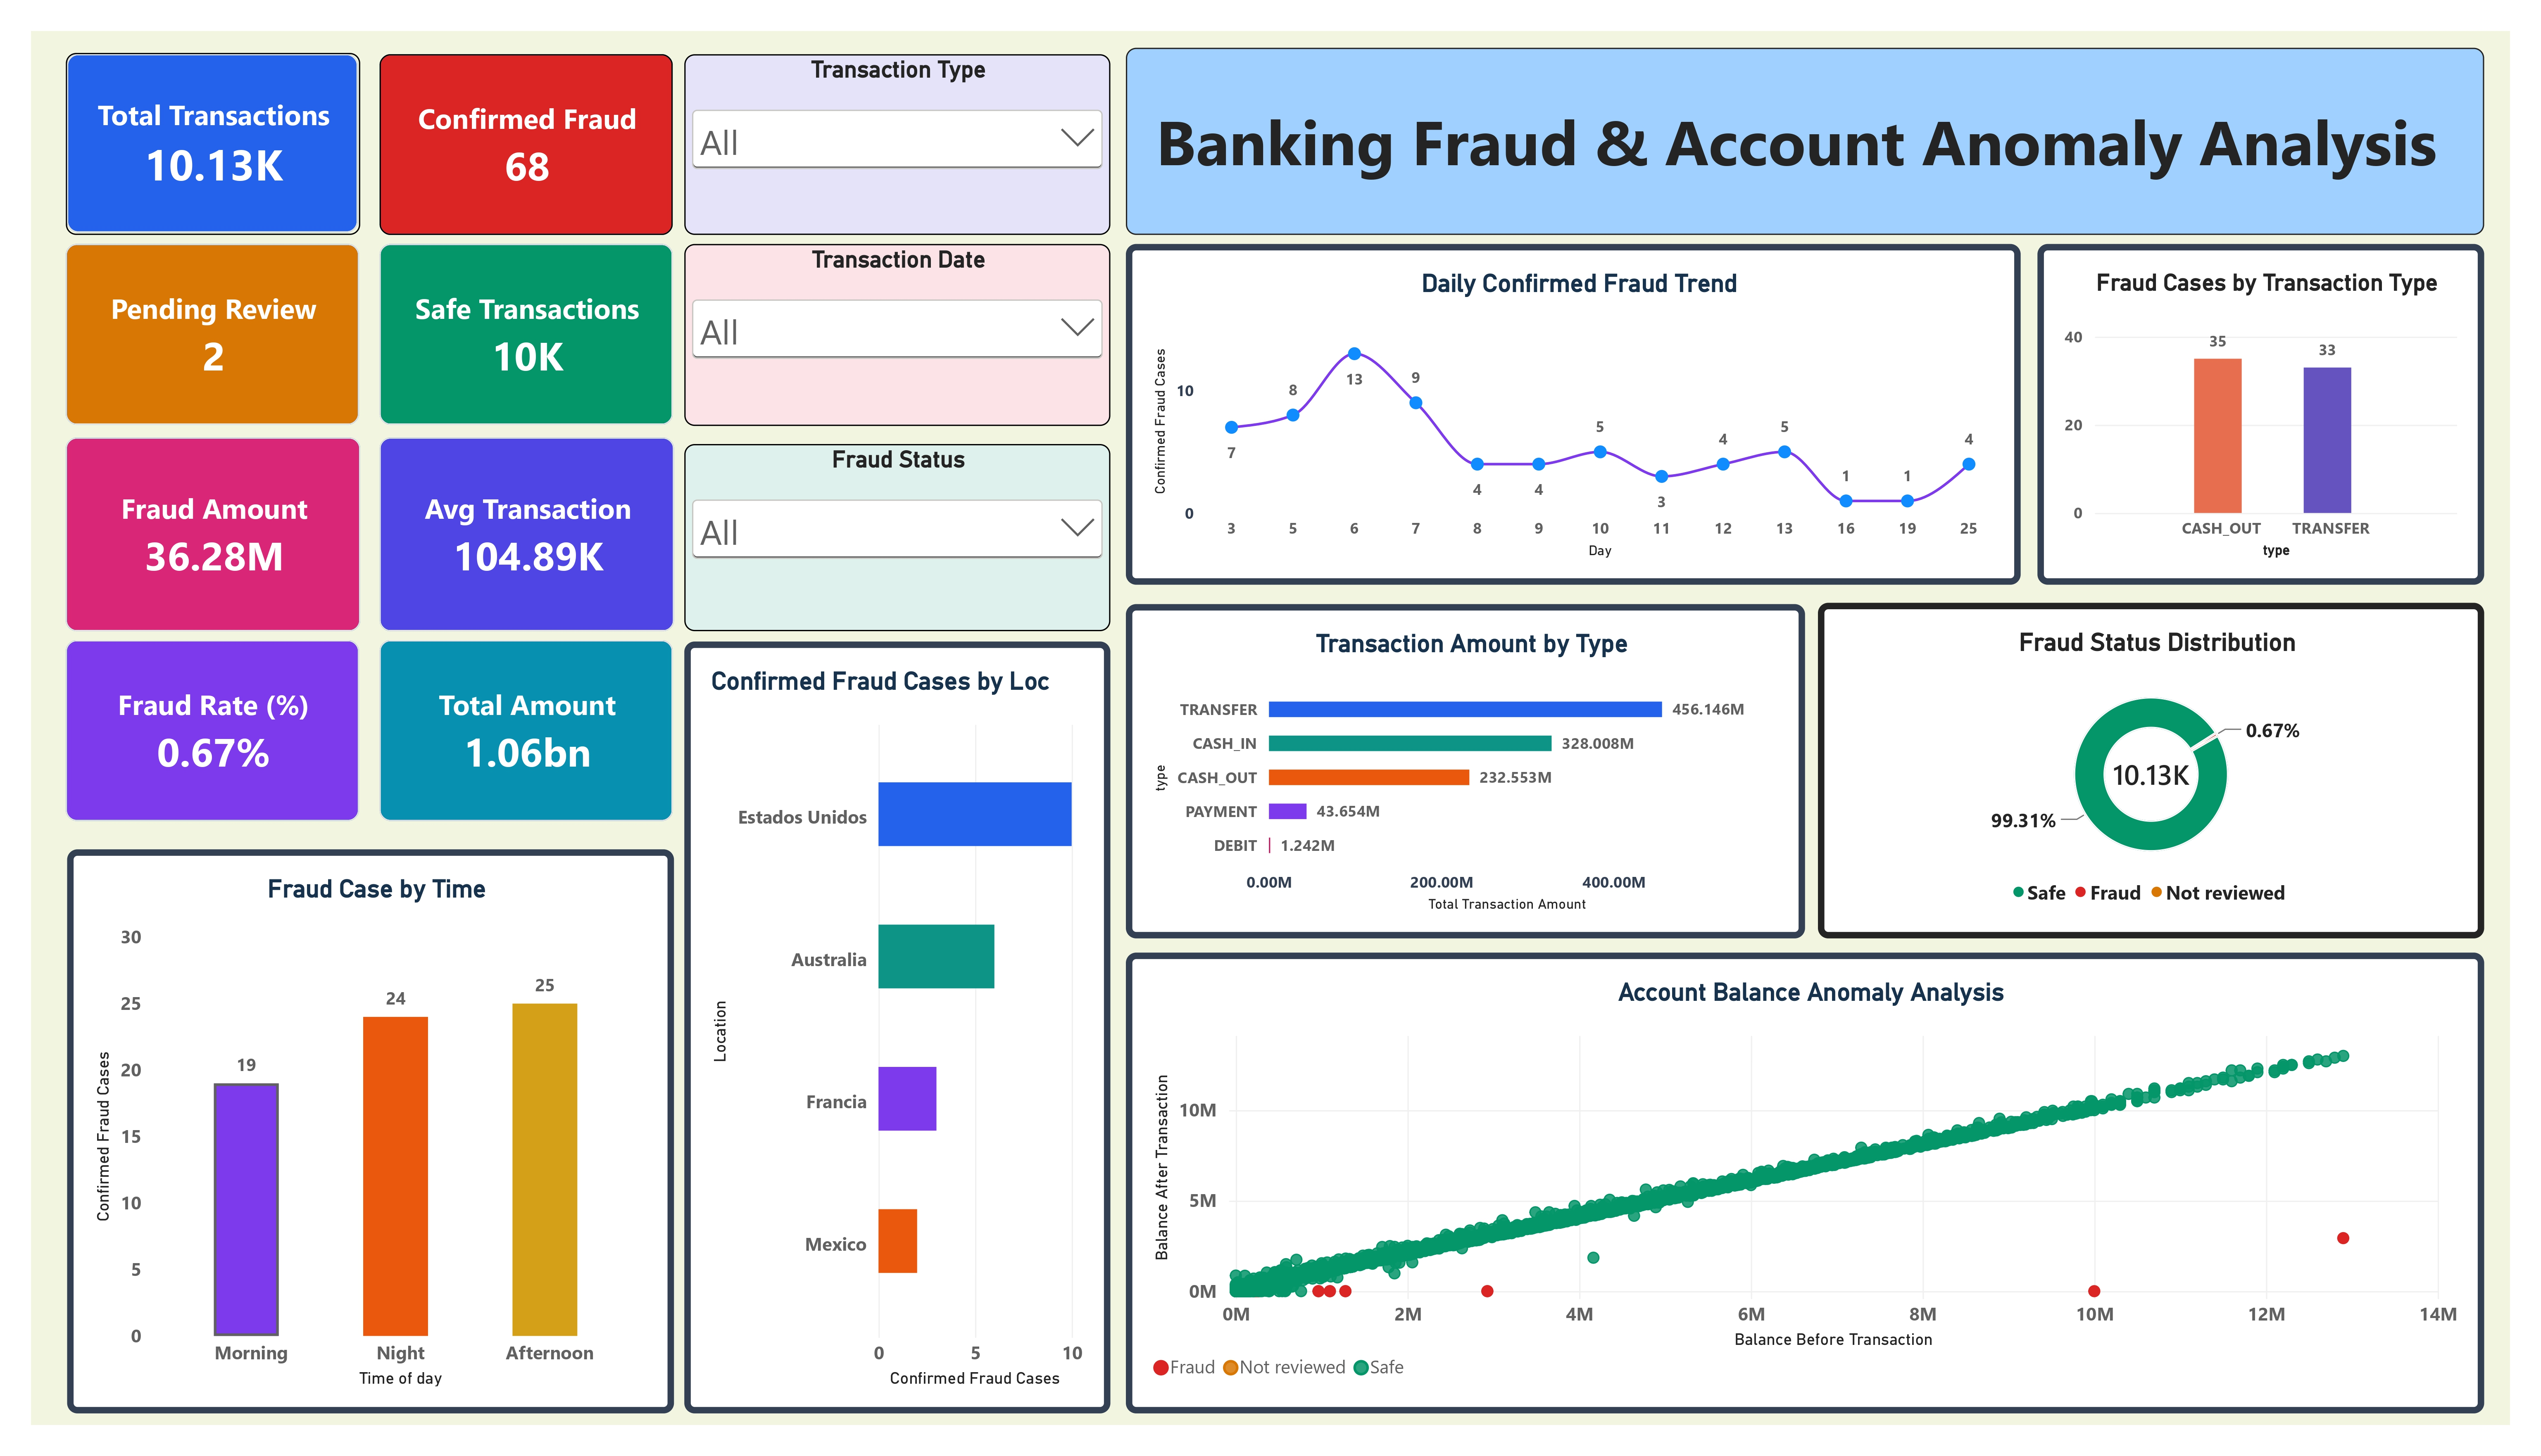

The dashboard page shown, as its layout file describes it:
{"tool":"powerbi","page":{"name":"Page 4","canvas":[1920,1080],"ordinal":3},"visuals":[{"type":"textbox","box":[847.5,12.5,1052.5,145],"z":0},{"type":"cardVisual","fields":{"Data":["Banking_Fraud.P4 Total Banking Transactions"]},"box":[26.8,16.8,227.9,140.8],"z":1000},{"type":"cardVisual","fields":{"Data":["Banking_Fraud.P4 Confirmed Fraud Cases"]},"box":[269.6,18.1,227.9,140.8],"z":2000},{"type":"cardVisual","fields":{"Data":["Banking_Fraud.P4 Not Reviewed Transactions"]},"box":[27.1,164.7,227.9,140.8],"z":3000},{"type":"cardVisual","fields":{"Data":["Banking_Fraud.P4 Confirmed Fraud Rate (%)"]},"box":[27.1,472.3,227.9,140.8],"z":4000},{"type":"cardVisual","fields":{"Data":["Banking_Fraud.P4 Total Transaction Amount"]},"box":[269.6,472.3,227.9,140.8],"z":5000},{"type":"cardVisual","fields":{"Data":["Banking_Fraud.P4 Safe Transactions"]},"box":[269.6,164.7,227.9,140.8],"z":6000},{"type":"cardVisual","fields":{"Data":["Banking_Fraud.P4 Fraud Transaction Amount"]},"box":[27.1,314.9,228,150],"z":7000},{"type":"cardVisual","fields":{"Data":["Banking_Fraud.P4 Average Transaction Amount"]},"box":[269.6,314.9,228,150],"z":8000},{"type":"donutChart","title":"Fraud Status Distribution","fields":{"Category":["Banking_Fraud.Fraud Status Clean"],"Y":["Banking_Fraud.P4 Total Banking Transactions"]},"box":[1383.8,443.2,516.2,259.5],"z":9000},{"type":"clusteredBarChart","title":"Transaction Amount by Type","fields":{"Category":["Banking_Fraud.type"],"Y":["Banking_Fraud.P4 Total Transaction Amount"]},"box":[847.5,443.8,526.2,258.8],"z":10000},{"type":"columnChart","title":"Fraud Cases by Transaction Type","fields":{"Category":["Banking_Fraud.type"],"Y":["Banking_Fraud.P4 Confirmed Fraud Cases"]},"box":[1553.8,165,346.2,263.8],"z":11000},{"type":"lineChart","title":"Daily Confirmed Fraud Trend","fields":{"Category":["Banking_Fraud.Date of transaction.Variation.Date Hierarchy.Day"],"Y":["Banking_Fraud.P4 Confirmed Fraud Cases"]},"box":[847.5,165,693.8,263.8],"z":12000},{"type":"scatterChart","title":"Account Balance Anomaly Analysis","fields":{"Category":["Banking_Fraud.Transaction Row ID"],"Series":["Banking_Fraud.Fraud Status Clean"],"X":["Sum(Banking_Fraud.oldbalanceOrg)"],"Y":["Sum(Banking_Fraud.newbalanceOrig)"]},"box":[847.5,713.8,1052.5,357.5],"z":13000},{"type":"barChart","title":"Confirmed Fraud Cases by Loc","fields":{"Category":["Banking_Fraud.branch"],"Y":["Banking_Fraud.P4 Confirmed Fraud Cases"]},"box":[506.2,472.5,330,598.8],"z":14000},{"type":"columnChart","title":"Fraud Case by Time","fields":{"Category":["Banking_Fraud.Time of day"],"Y":["Banking_Fraud.P4 Confirmed Fraud Cases"]},"box":[27.5,633.8,470,437.5],"z":15000},{"type":"slicer","title":"Transaction Type","fields":{"Values":["Banking_Fraud.type"]},"box":[506.2,17.5,330,140],"z":16000},{"type":"slicer","title":"Transaction Date","fields":{"Values":["Banking_Fraud.Date of transaction"]},"box":[506.2,165,330,141.2],"z":17000},{"type":"slicer","title":"Fraud Status","fields":{"Values":["Banking_Fraud.Fraud Status Clean"]},"box":[506.2,320,330,145],"z":18000}]}

Visuals, with their boxes in screenshot pixels (x1, y1, x2, y2):
textbox: bbox(1126, 36, 2500, 226)
cardVisual - Banking_Fraud.P4 Total Banking Transactions: bbox(55, 42, 352, 226)
cardVisual - Banking_Fraud.P4 Confirmed Fraud Cases: bbox(372, 43, 669, 227)
cardVisual - Banking_Fraud.P4 Not Reviewed Transactions: bbox(55, 235, 353, 418)
cardVisual - Banking_Fraud.P4 Confirmed Fraud Rate (%): bbox(55, 636, 353, 820)
cardVisual - Banking_Fraud.P4 Total Transaction Amount: bbox(372, 636, 669, 820)
cardVisual - Banking_Fraud.P4 Safe Transactions: bbox(372, 235, 669, 418)
cardVisual - Banking_Fraud.P4 Fraud Transaction Amount: bbox(55, 431, 353, 627)
cardVisual - Banking_Fraud.P4 Average Transaction Amount: bbox(372, 431, 669, 627)
"Fraud Status Distribution" donutChart: bbox(1826, 598, 2500, 937)
"Transaction Amount by Type" clusteredBarChart: bbox(1126, 599, 1813, 936)
"Fraud Cases by Transaction Type" columnChart: bbox(2048, 235, 2500, 580)
"Daily Confirmed Fraud Trend" lineChart: bbox(1126, 235, 2032, 580)
"Account Balance Anomaly Analysis" scatterChart: bbox(1126, 951, 2500, 1418)
"Confirmed Fraud Cases by Loc" barChart: bbox(680, 637, 1111, 1418)
"Fraud Case by Time" columnChart: bbox(56, 847, 669, 1418)
"Transaction Type" slicer: bbox(680, 43, 1111, 226)
"Transaction Date" slicer: bbox(680, 235, 1111, 419)
"Fraud Status" slicer: bbox(680, 437, 1111, 627)
